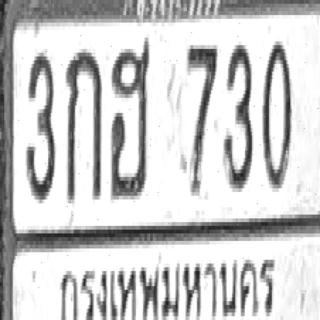A01: (66, 45, 101, 199)
A44: (110, 36, 150, 198)
N00: (262, 36, 292, 186)
N03: (25, 49, 55, 200), (223, 41, 253, 188)
N07: (186, 42, 217, 192)
P04: (54, 245, 279, 320)
